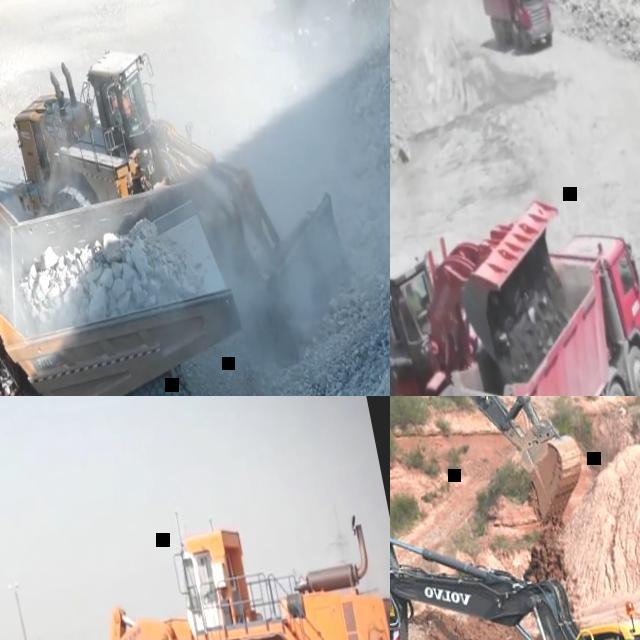machinery: (0, 8, 369, 396), (0, 146, 279, 396), (0, 485, 390, 640), (390, 396, 614, 640), (390, 464, 640, 640), (390, 191, 598, 396), (419, 218, 640, 396), (476, 0, 559, 58)
